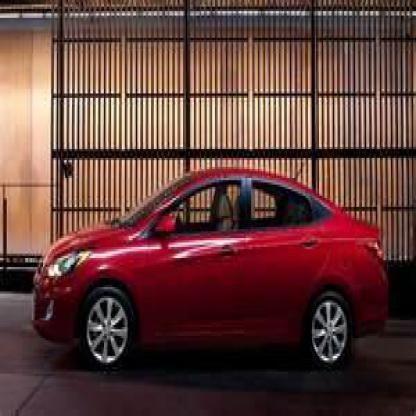Vehicle: (32, 167, 392, 385)
